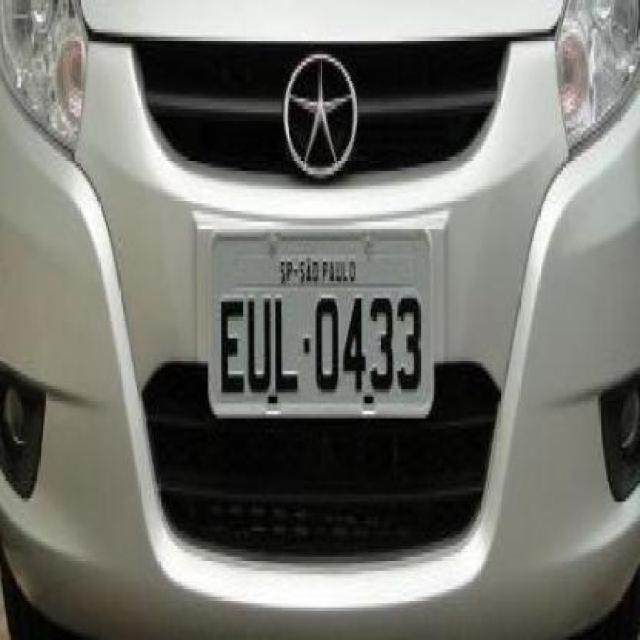old_plate: (202, 219, 440, 425)
